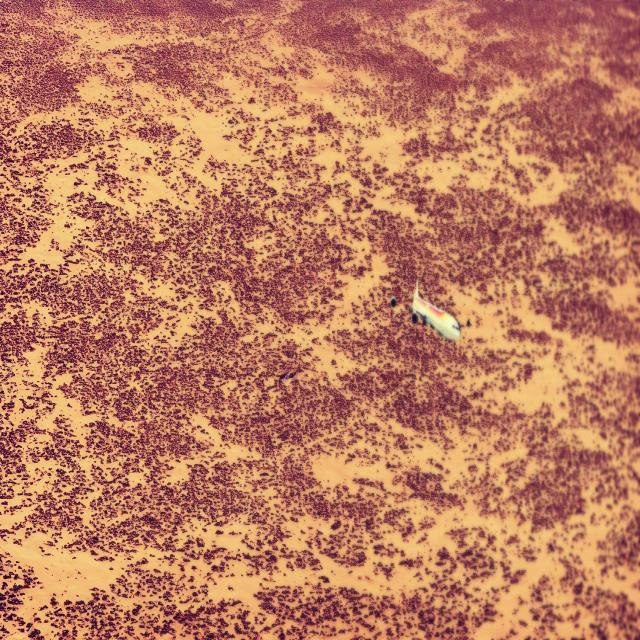airplane: (411, 278, 461, 342)
